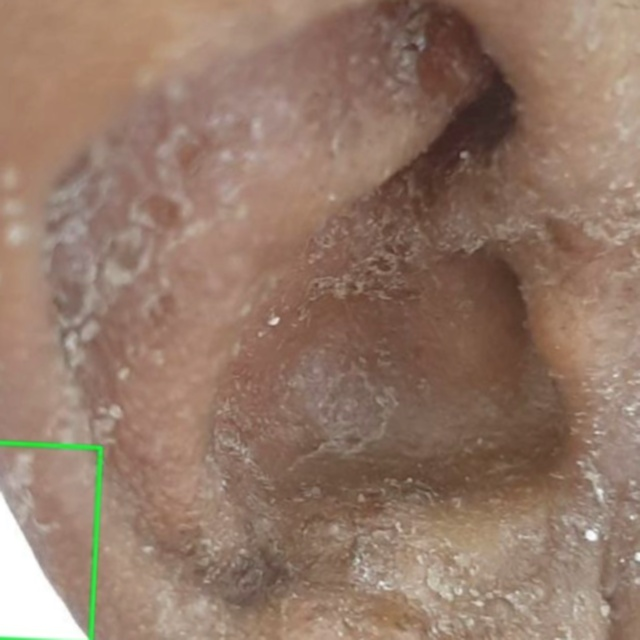Eczema: (0, 443, 100, 639)
